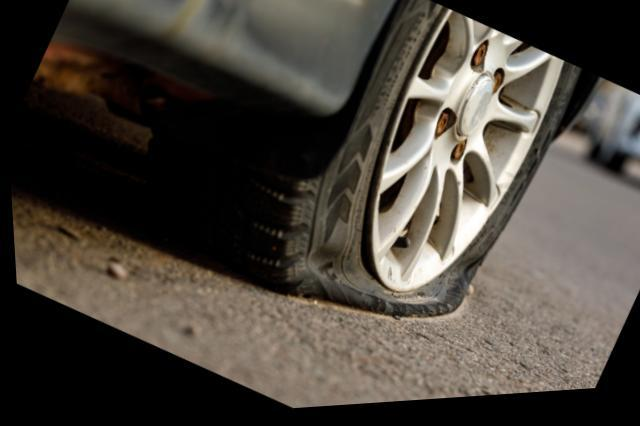tire flat: (224, 0, 581, 324)
